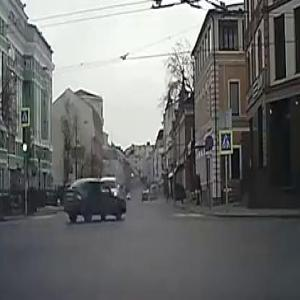superficial: (61, 170, 130, 224)
